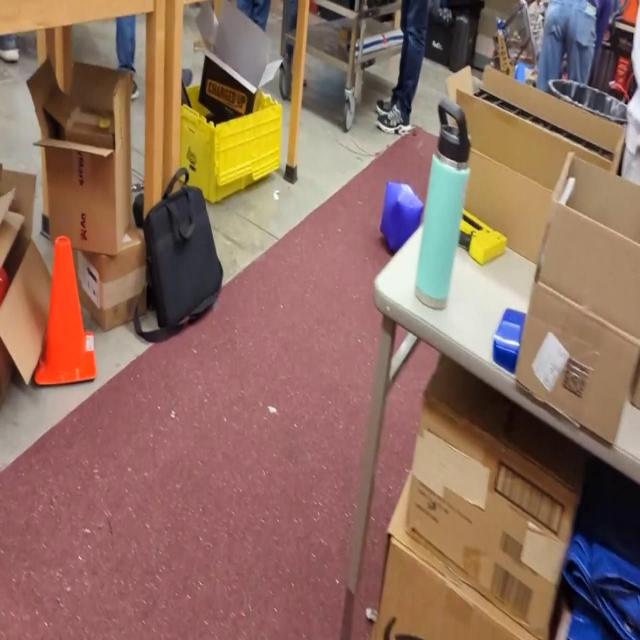frc_cube: (378, 180, 424, 254)
